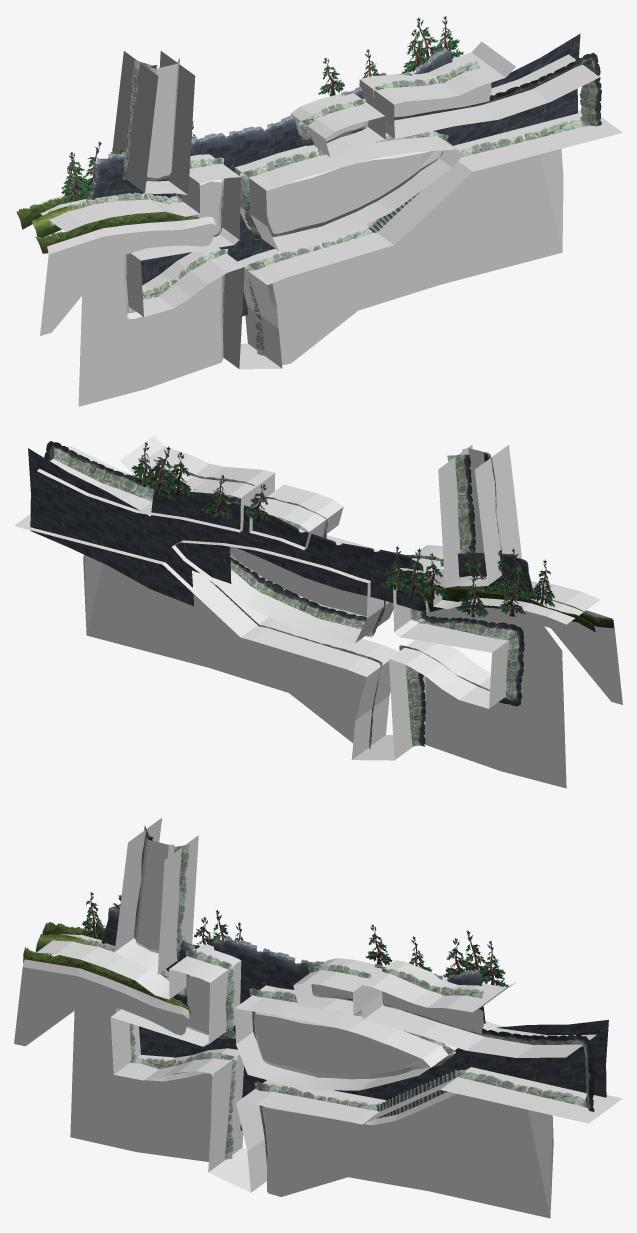
File: LVL10 Ruins Pt4.FBX
The picture shows the model from 3 angles, top to bottom: view 1: azimuth 30°, elevation 25°; view 2: azimuth 150°, elevation 25°; view 3: azimuth 330°, elevation 25°; orthographic projection.
Parts seen in each view (by area): view 1: Lvl 10 Col Pt4, LVL 10 Black Middle Pt4_4, LVL 10 Black Middle Pt4_1, LVL 10 Black Middle Pt4_3, LVL 10 Black Pt4, LVL10_Ruins Pt 4_5, LVL 10 Ruins BG Pt4_3, LVL 10 Ruins BG Pt4_1, LVL10_Ruins Pt 4_1, LVL10 Trees Pt4_3BG, LVL 10 Ruins BG Pt4_2, LVL 10 Ruins BG Pt4_4 (+7 smaller); view 2: Lvl 10 Col Pt4, LVL 10 Black Middle Pt4_4, LVL 10 Black Middle Pt4_1, LVL 10 Ruins BG Pt4_3, LVL 10 Ruins BG Pt4_1, LVL10_Ruins Pt 4_1, LVL 10 Black Pt4, LVL10 Trees Pt4_2BG, LVL 10 Black Middle Pt4_3, LVL10 Trees Pt4_3BG, LVL10_Ruins Pt 4_5, LVL10_Ruins Pt 4_3 (+3 smaller); view 3: Lvl 10 Col Pt4, LVL 10 Black Middle Pt4_4, LVL 10 Black Middle Pt4_1, LVL 10 Black Middle Pt4_3, LVL 10 Black Pt4, LVL 10 Ruins BG Pt4_3, LVL10_Ruins Pt 4_1, LVL10_Ruins Pt 4_5, LVL 10 Ruins BG Pt4_2, LVL 10 Ruins BG Pt4_1, LVL10 Trees Pt4_3BG, LVL 10 Black Middle Pt4_5 (+7 smaller).
Boxes of the visible parts, x1,y1,x2,y2 form: Lvl 10 Col Pt4: [38, 41, 622, 369]; LVL 10 Black Middle Pt4_4: [268, 149, 563, 365]; LVL 10 Black Middle Pt4_1: [78, 62, 224, 406]; LVL 10 Black Middle Pt4_3: [266, 150, 444, 236]; LVL 10 Black Pt4: [40, 216, 216, 335]; LVL10_Ruins Pt 4_5: [373, 52, 601, 156]; LVL 10 Ruins BG Pt4_3: [414, 33, 580, 145]; LVL 10 Ruins BG Pt4_1: [190, 72, 412, 172]; LVL10_Ruins Pt 4_1: [31, 58, 227, 342]; LVL10 Trees Pt4_3BG: [318, 16, 463, 96]; LVL 10 Ruins BG Pt4_2: [126, 213, 274, 316]; LVL 10 Ruins BG Pt4_4: [86, 152, 175, 200]; Lvl 10 Col Pt4: [14, 435, 600, 760]; LVL 10 Black Middle Pt4_4: [83, 554, 366, 742]; LVL 10 Black Middle Pt4_1: [423, 448, 566, 788]; LVL 10 Ruins BG Pt4_3: [28, 448, 194, 606]; LVL 10 Ruins BG Pt4_1: [190, 489, 426, 610]; LVL10_Ruins Pt 4_1: [399, 453, 601, 746]; LVL 10 Black Pt4: [469, 606, 622, 704]; LVL10 Trees Pt4_2BG: [382, 546, 525, 617]; LVL 10 Black Middle Pt4_3: [230, 546, 367, 616]; LVL10 Trees Pt4_3BG: [127, 442, 271, 522]; LVL10_Ruins Pt 4_5: [44, 441, 255, 504]; LVL10_Ruins Pt 4_3: [230, 556, 385, 637]; Lvl 10 Col Pt4: [36, 818, 622, 1192]; LVL 10 Black Middle Pt4_4: [262, 1091, 553, 1218]; LVL 10 Black Middle Pt4_1: [70, 837, 213, 1161]; LVL 10 Black Middle Pt4_3: [254, 1011, 429, 1079]; LVL 10 Black Pt4: [14, 959, 189, 1046]; LVL 10 Ruins BG Pt4_3: [444, 969, 608, 1097]; LVL10_Ruins Pt 4_1: [35, 825, 237, 1159]; LVL10_Ruins Pt 4_5: [382, 968, 594, 1111]; LVL 10 Ruins BG Pt4_2: [139, 993, 444, 1130]; LVL 10 Ruins BG Pt4_1: [213, 937, 446, 997]; LVL10 Trees Pt4_3BG: [365, 924, 508, 987]; LVL 10 Black Middle Pt4_5: [382, 991, 483, 1033].
Size of the model in its own units: 9252 by 1209 by 5065.
